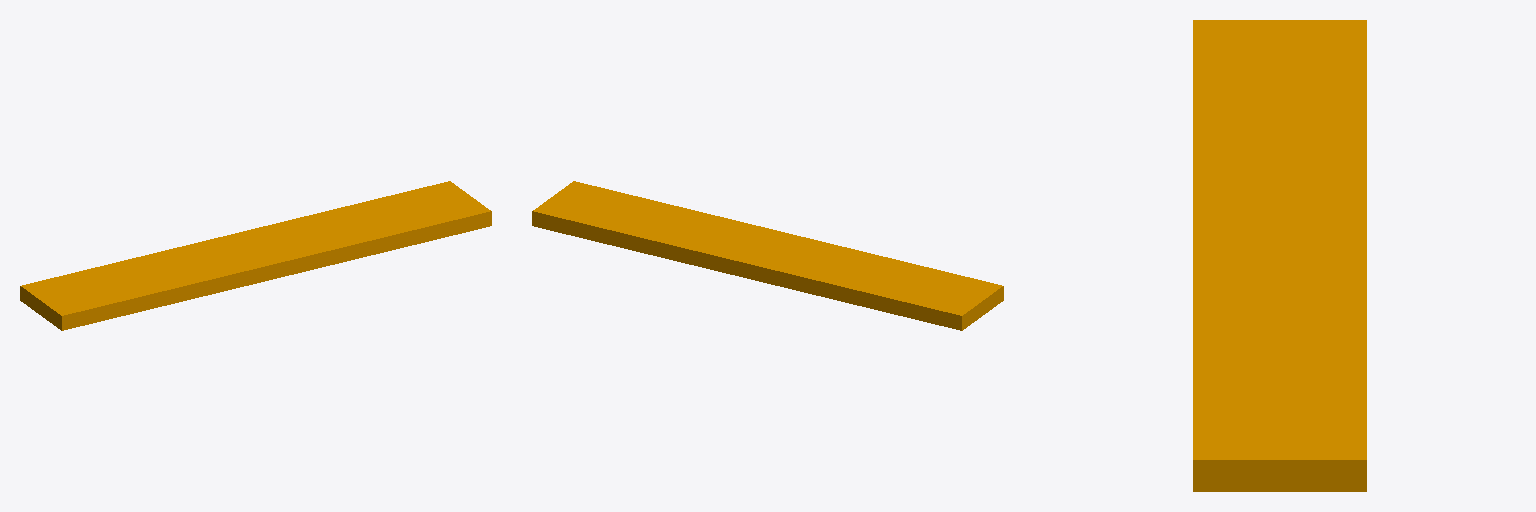
robot.urdf — mount_for_tool:
<?xml version="1.0" ?>
<!-- =================================================================================== -->
<!-- |    This document was autogenerated by xacro from mount_for_tool.urdf.xacro      | -->
<!-- |    EDITING THIS FILE BY HAND IS NOT RECOMMENDED                                 | -->
<!-- =================================================================================== -->
<robot name="mount_for_tool" xmlns:xacro="http://ros.org/wiki/xacro">
  <!-- Mount link -->
  <link name="mount_link">
    <visual name="visual">
      <geometry>
        <box size="0.3 0.05 0.01"/>
      </geometry>
    </visual>
    <collision name="collision">
      <geometry>
        <box size="0.3 0.05 0.01"/>
      </geometry>
    </collision>
    <inertial>
      <mass value="0.15"/>
      <inertia ixx="3.25e-05" ixy="0.0" ixz="0.0" iyy="0.00112625" iyz="0.0" izz="0.00115625"/>
    </inertial>
  </link>
</robot>

--- Facts derived from the render (not from the file) ---
3 views of the same robot in one strip: view 1: azimuth 30°, elevation 25°; view 2: azimuth 150°, elevation 25°; view 3: azimuth 270°, elevation 25° (orthographic).
Model mount_for_tool with 1 links and 0 joints (none), rooted at mount_link, posed all joints at 0.
Links seen in each view (by area): view 1: mount_link; view 2: mount_link; view 3: mount_link.
Boxes of the visible links, x1,y1,x2,y2 form: mount_link: (20,181,491,330); mount_link: (532,181,1003,330); mount_link: (1193,20,1366,491).
Bounding box of the posed robot: 0.3 × 0.05 × 0.01 m (x, y, z).
Geometry: primitives only (box / cylinder / sphere), no mesh files.